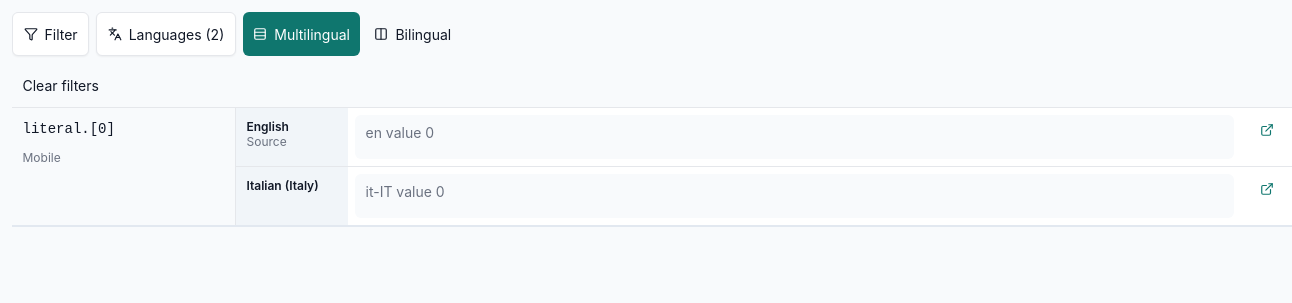
Scenario: switches from source and Italian to all language siblings through the toolbar
Click the button "Bilingual" at (413, 34), box left=364, top=12, right=462, bottom=56
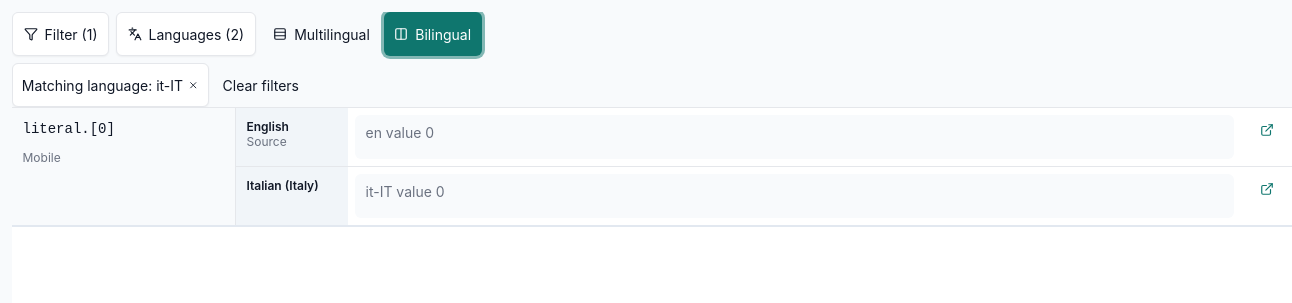
Expected: the text "it-IT value 0" is shown, left=355, top=174, right=1234, bottom=218
Expected: the text "en value 0" is shown, left=355, top=115, right=1234, bottom=159
Click the button "Multilingual" at (321, 34), box left=263, top=12, right=380, bottom=56
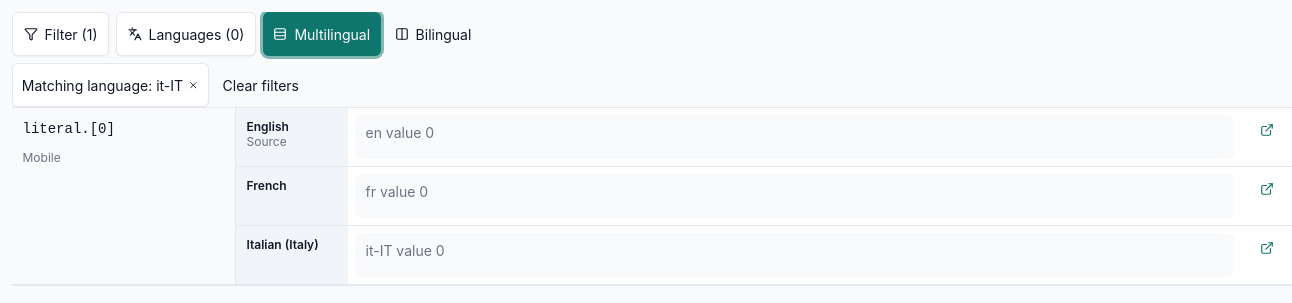
Expected: the text "it-IT value 0" is shown, left=355, top=233, right=1234, bottom=277
Expected: the text "fr value 0" is shown, left=355, top=174, right=1234, bottom=218
